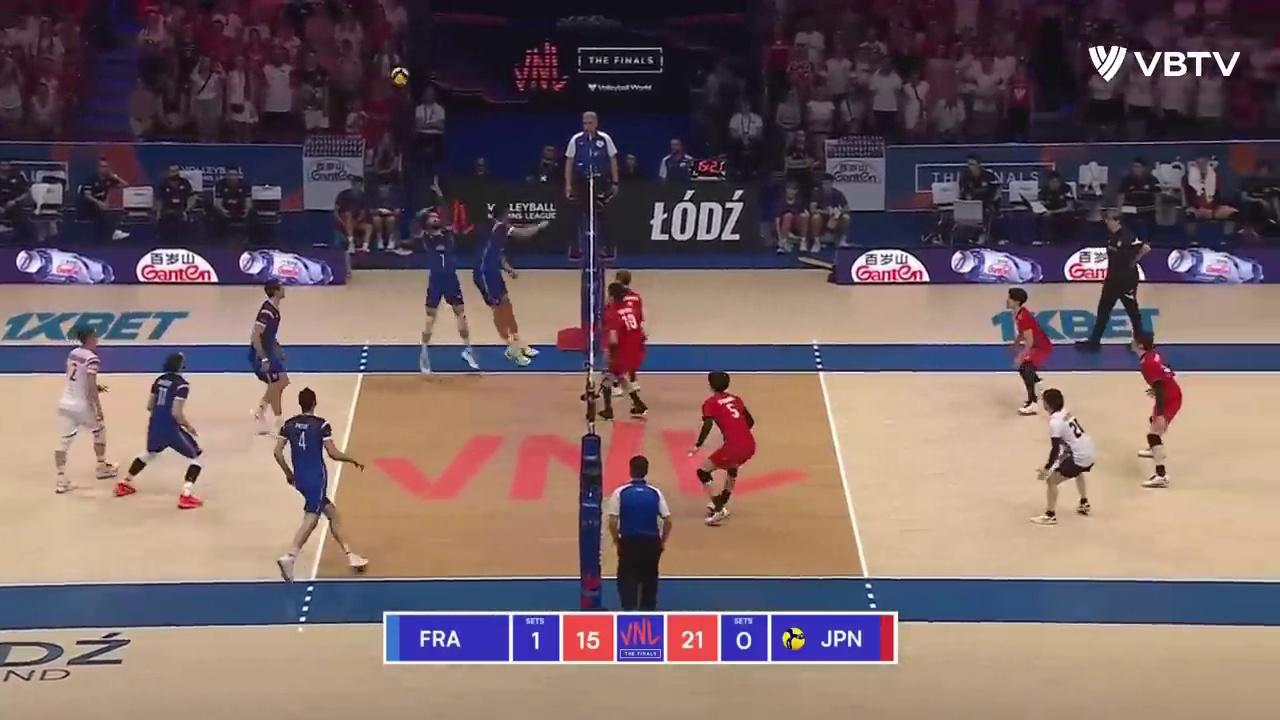ball: (388, 66, 411, 88)
